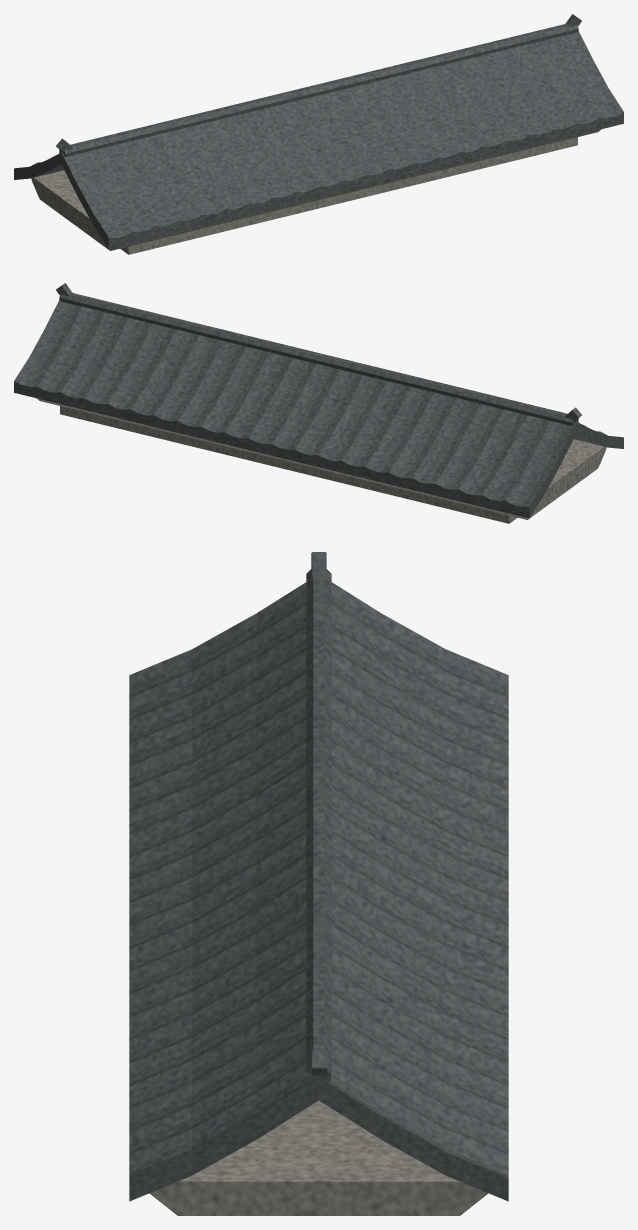
File: CliffGateCrown_LOD0.fbx
The picture shows the model from 3 angles, top to bottom: view 1: azimuth 30°, elevation 25°; view 2: azimuth 150°, elevation 25°; view 3: azimuth 270°, elevation 25°; orthographic projection. The views are drawn at different scales.
Visible parts, largest first — view 1: CliffGateCrown; view 2: CliffGateCrown; view 3: CliffGateCrown.
Part boxes in pixels (x1,y1,x2,y2): CliffGateCrown: [14, 14, 623, 254]; CliffGateCrown: [14, 283, 623, 523]; CliffGateCrown: [129, 552, 508, 1215].
Size of the model in its own units: 3.25 by 0.5784 by 1.02.
1 material, 1 textured.
